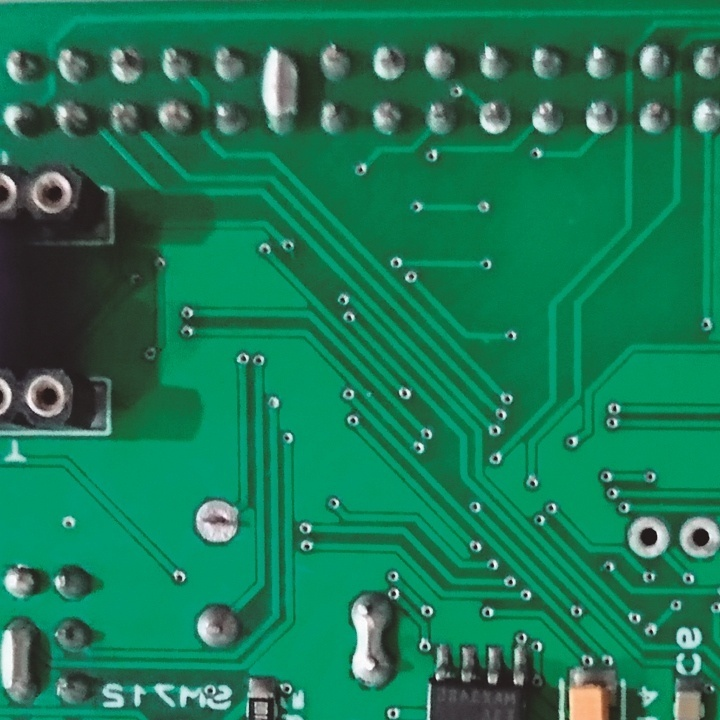F: (188, 496, 244, 548), (675, 512, 720, 562), (624, 514, 670, 561), (367, 42, 412, 87), (104, 44, 148, 89), (475, 97, 518, 138), (581, 97, 621, 140)
P: (344, 589, 397, 695), (258, 44, 306, 144), (1, 615, 44, 709)
